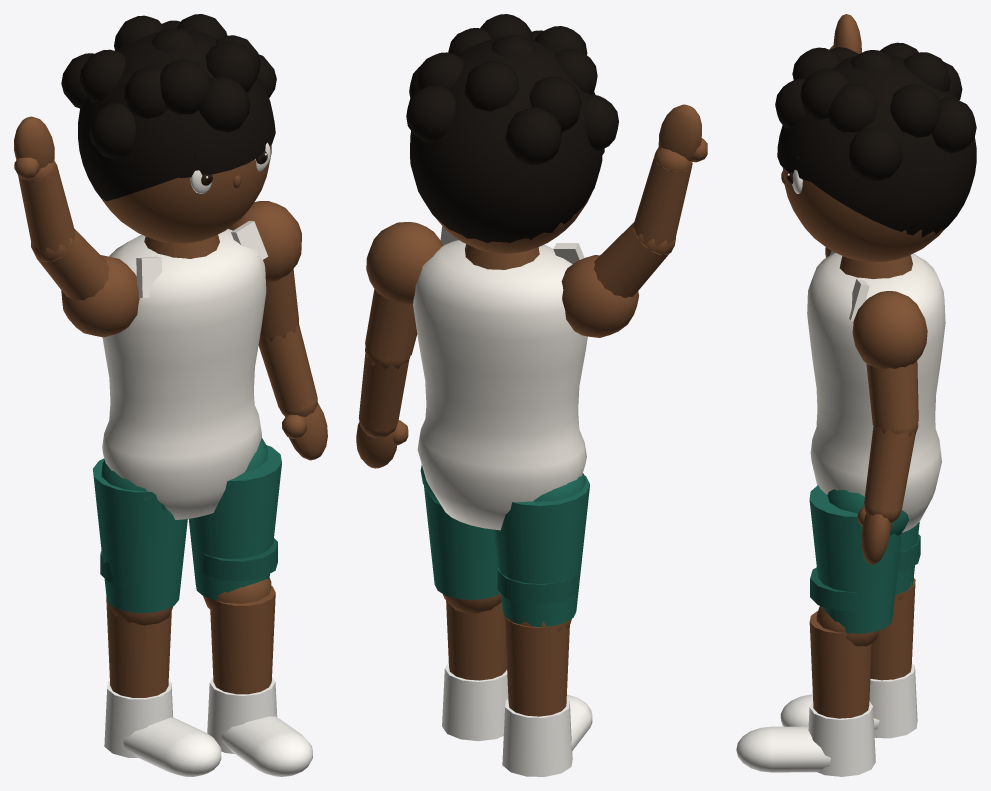
File: 20-yan.glb
The picture shows the model from 3 angles, left to right: view 1: azimuth 30°, elevation 25°; view 2: azimuth 150°, elevation 25°; view 3: azimuth 270°, elevation 25°; orthographic projection. The views are drawn at different scales.
Visible parts, largest first — view 1: Yan, skull, elbow (×2), armR, armL; view 2: Yan, skull, elbow (×2), armL, armR; view 3: Yan, skull, armL, elbow (×2).
Part boxes in pixels (x1=…): Yan: x1=93, y1=221, x2=312, y2=776; skull: x1=61, y1=14, x2=276, y2=243; elbow (×2): x1=14, y1=116, x2=327, y2=460; armR: x1=35, y1=229, x2=139, y2=337; armL: x1=228, y1=201, x2=301, y2=336; Yan: x1=413, y1=226, x2=592, y2=776; skull: x1=406, y1=14, x2=618, y2=253; elbow (×2): x1=356, y1=104, x2=707, y2=468; armL: x1=365, y1=222, x2=443, y2=360; armR: x1=561, y1=222, x2=669, y2=337; Yan: x1=736, y1=251, x2=945, y2=776; skull: x1=775, y1=42, x2=976, y2=261; armL: x1=852, y1=291, x2=927, y2=428; elbow (×2): x1=829, y1=14, x2=918, y2=564.
Bounding box in the file's own units: 0.49 × 1.02 × 0.3211.
